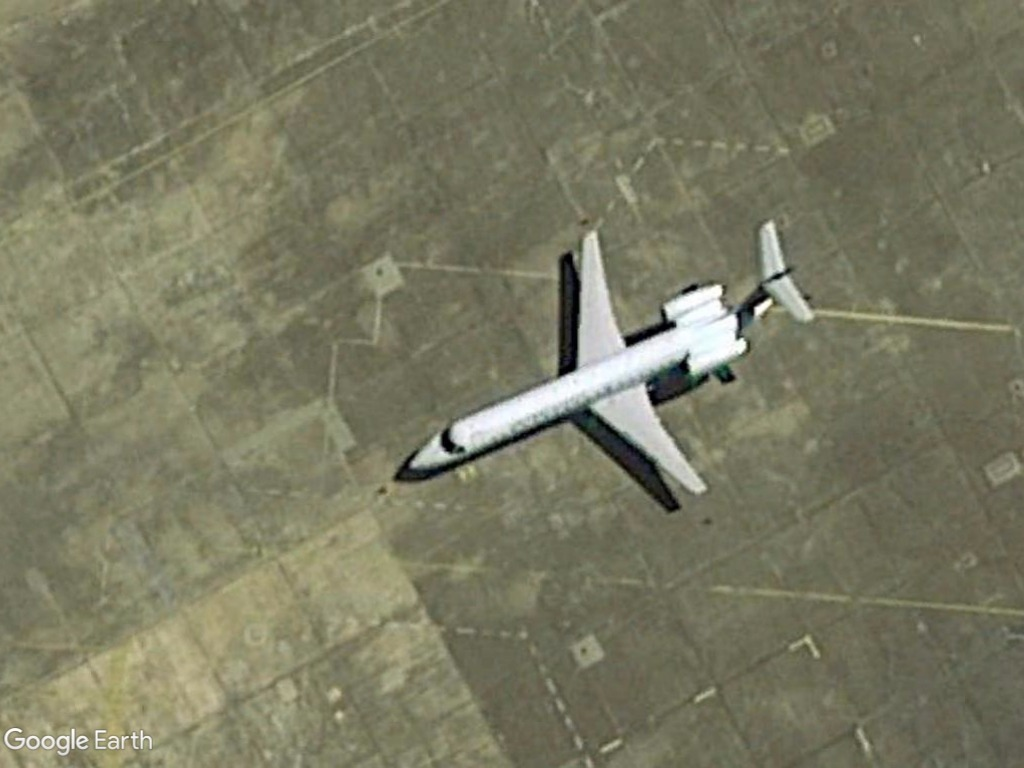chartered: (404, 217, 813, 505)
